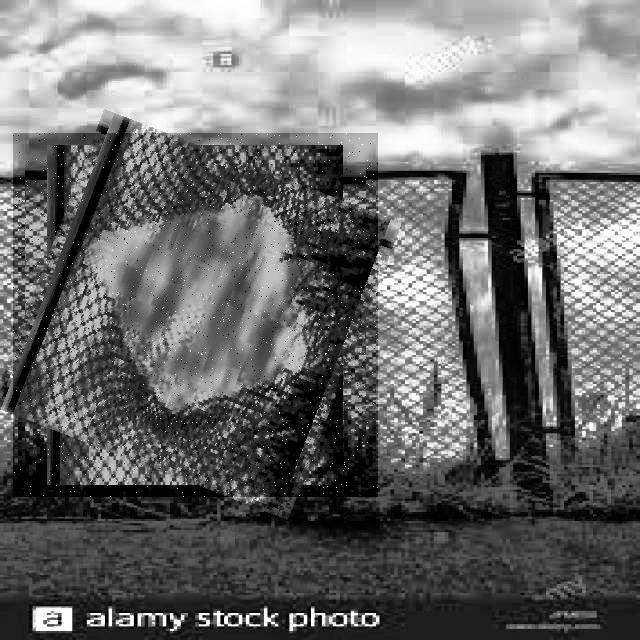anomaly-fence: (13, 133, 378, 497)
